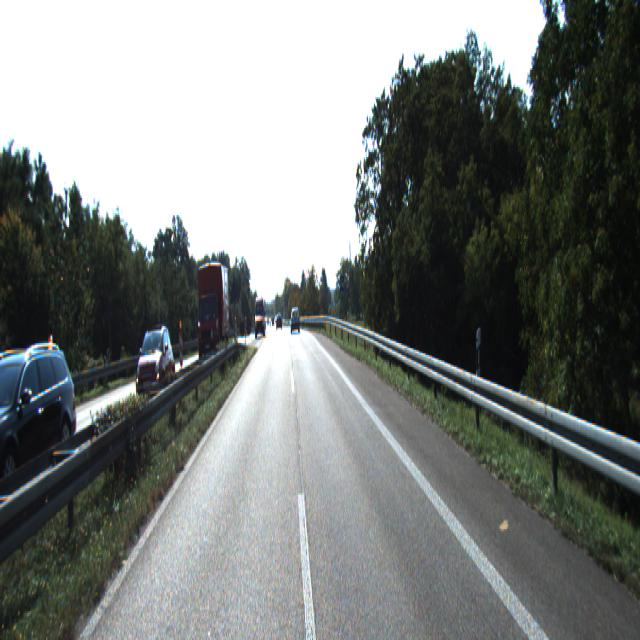Car: (0, 334, 85, 526), (194, 260, 232, 366), (135, 326, 176, 413), (254, 296, 266, 341), (291, 308, 300, 332)
